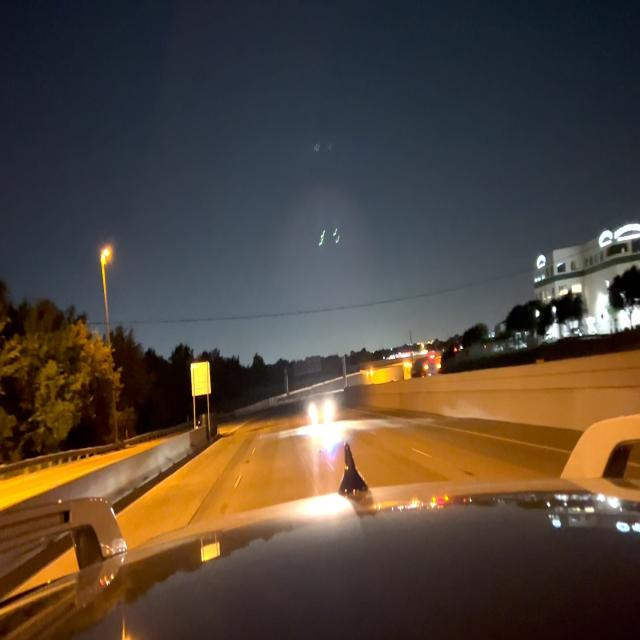back-of-sign: (189, 357, 213, 399)
